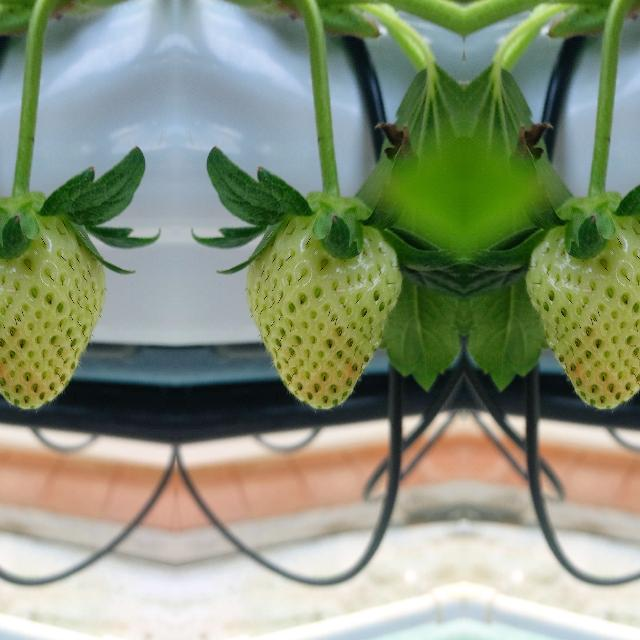Health_25: (245, 210, 401, 410), (525, 209, 640, 410), (0, 209, 105, 410)
